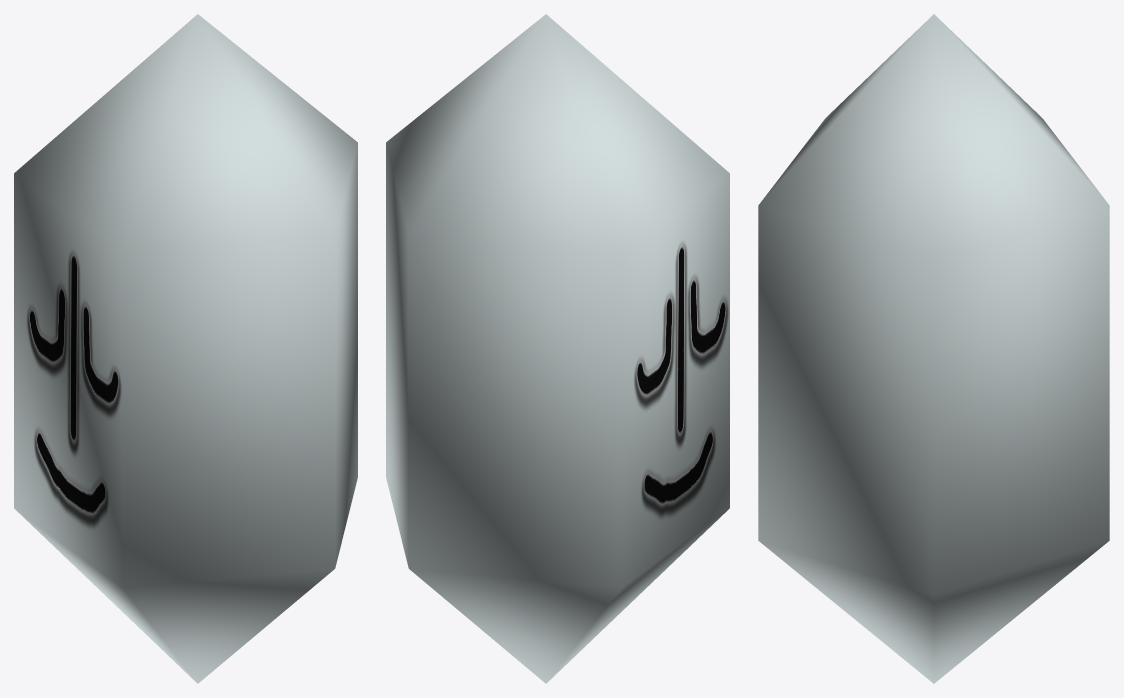
The model's file is Binah_Relic.fbx.
3 renders of one model, left to right at view 1: azimuth 30°, elevation 25°; view 2: azimuth 150°, elevation 25°; view 3: azimuth 270°, elevation 25°, orthographic.
Visible parts, largest first — view 1: pCylinder1; view 2: pCylinder1; view 3: pCylinder1.
Part boxes in pixels (x1,y1,x2,y2): pCylinder1: (14,14,357,683); pCylinder1: (386,14,729,683); pCylinder1: (758,14,1109,683).
Bounding box in the file's own units: 22.65 × 50.08 × 23.81.
